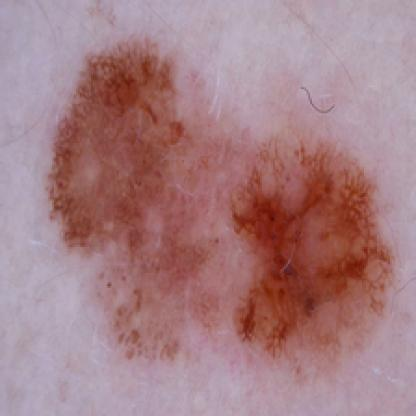Skin_Cancer-Malignant: (43, 35, 395, 384)
